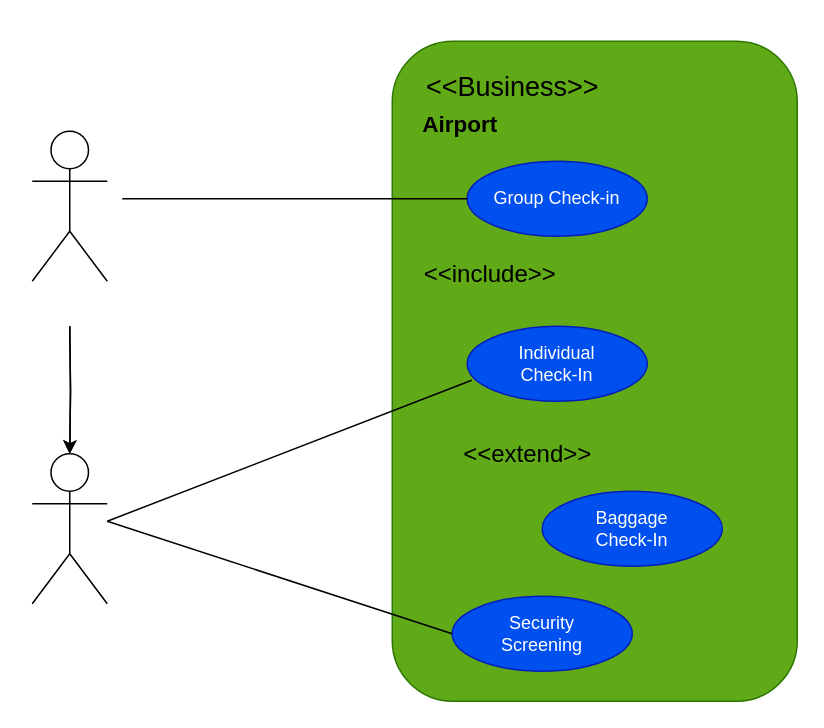
The diagram is 824 pixels wide and 728 high, and some of its shapes have lost their labels. The centre of each missing label's shape, as x and y in pixels:
"Passenger" goes at pixel 69 528.
"Tour Guide" goes at pixel 69 205.
